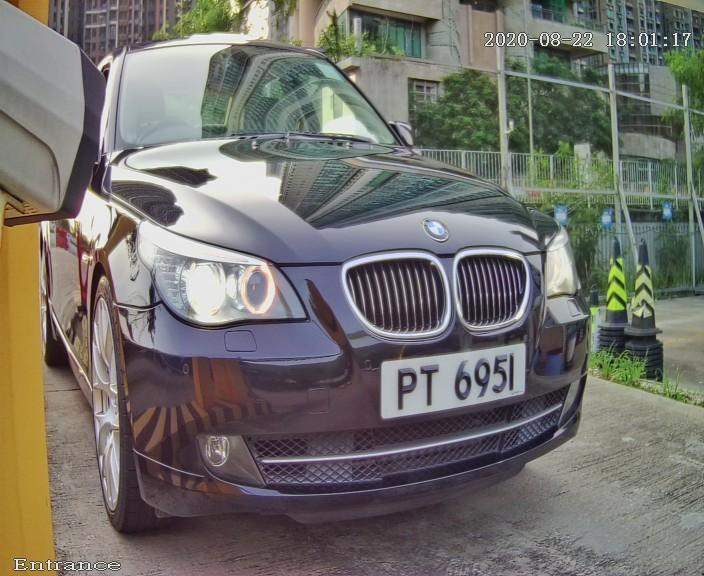Car: (16, 19, 635, 543)
License Plate: (352, 320, 543, 429)
